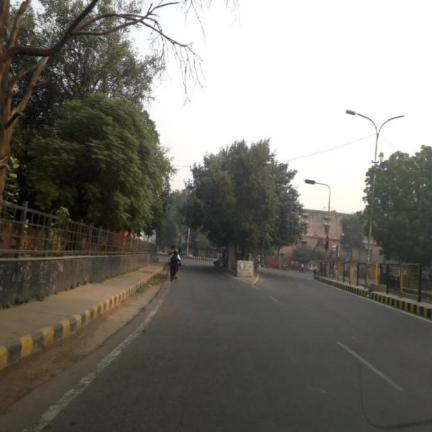Road: (9, 262, 431, 431)
